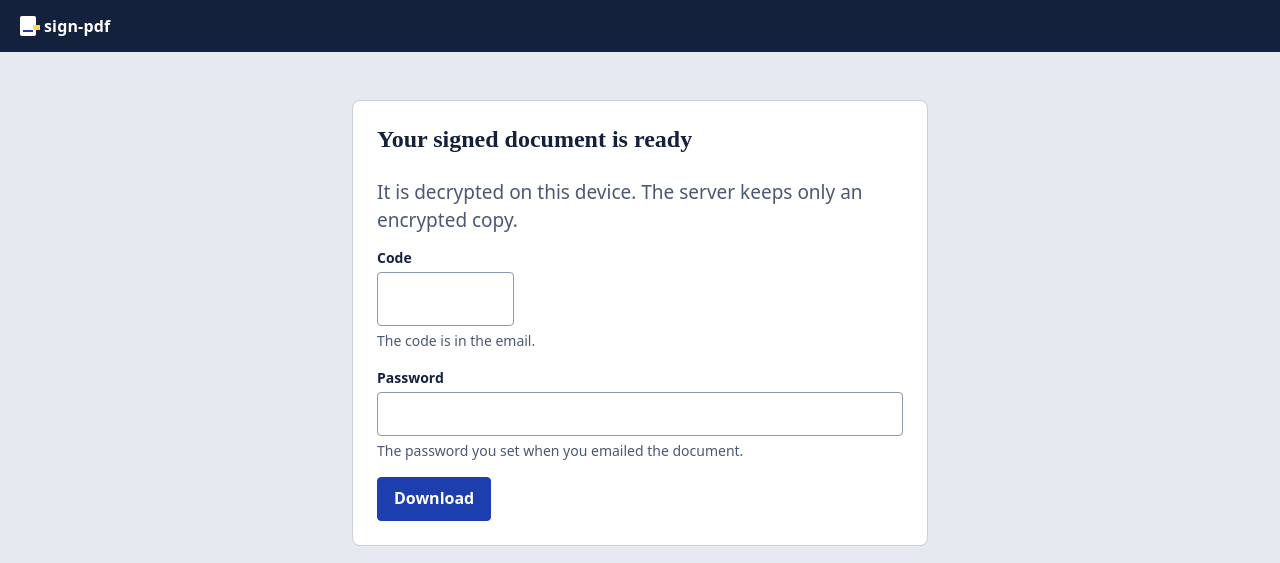
Test: collect the signed PDF › asks for the password on the same card and retries it without a new code attempt
This screenshot has width=1280, height=563.
Type "123456" into the field with test id "relay-collect-code" at (446,299), box [377,272,514,326]
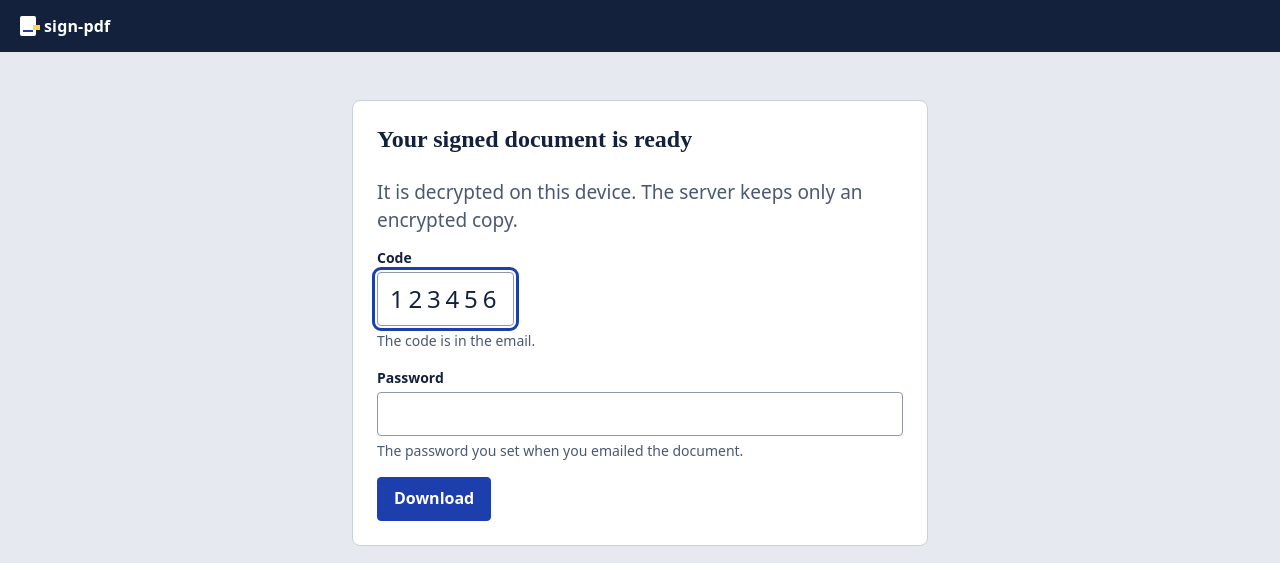
Type "wrong" into the password field with test id "relay-collect-password" at (640,414), box [377,392,903,436]
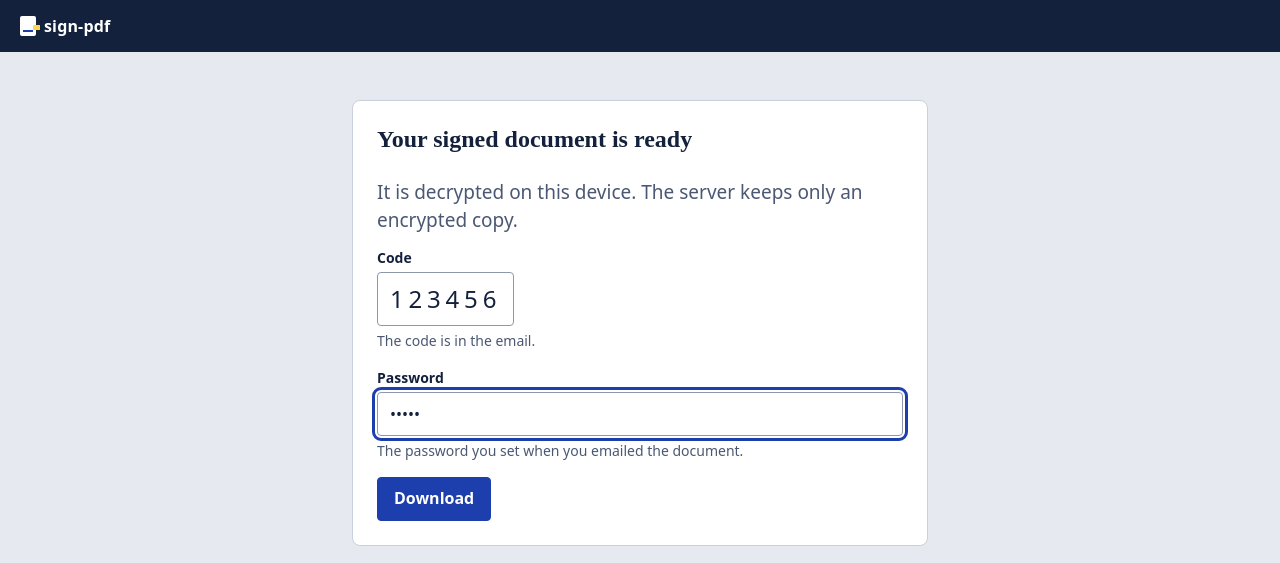
Click the button with test id "relay-collect-button" at (434,499), box [377,477,491,521]
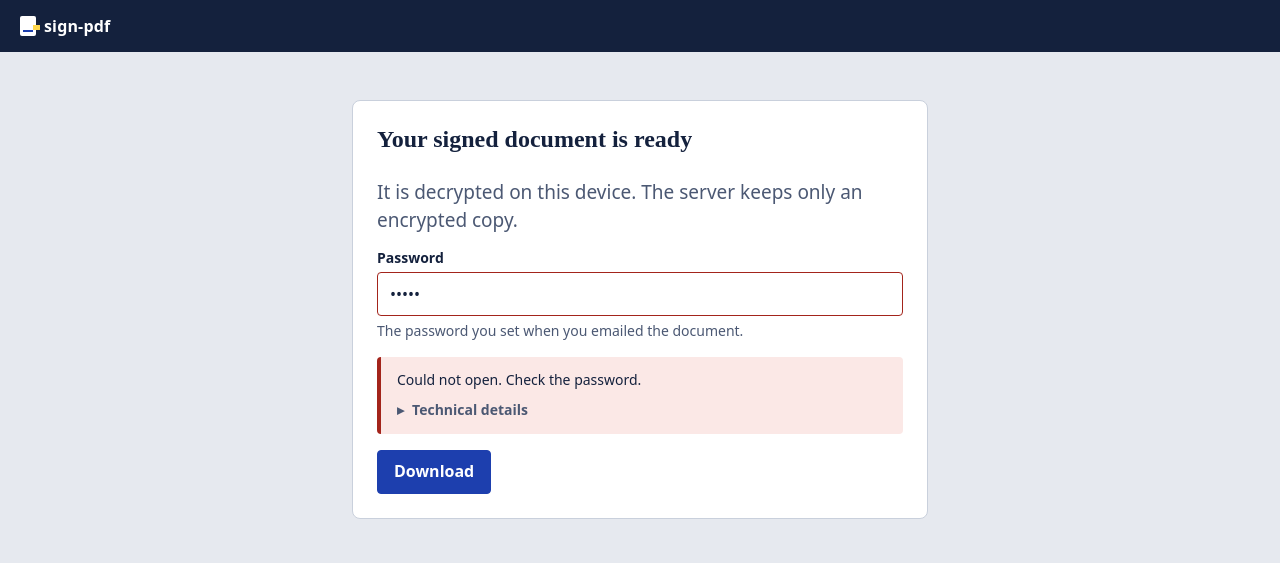
Check: the message with test id "relay-collect-error" shows "Check the password.", box [397,370,641,389]
Type "secret" into the password field with test id "relay-collect-password" at (640,294), box [377,272,903,316]
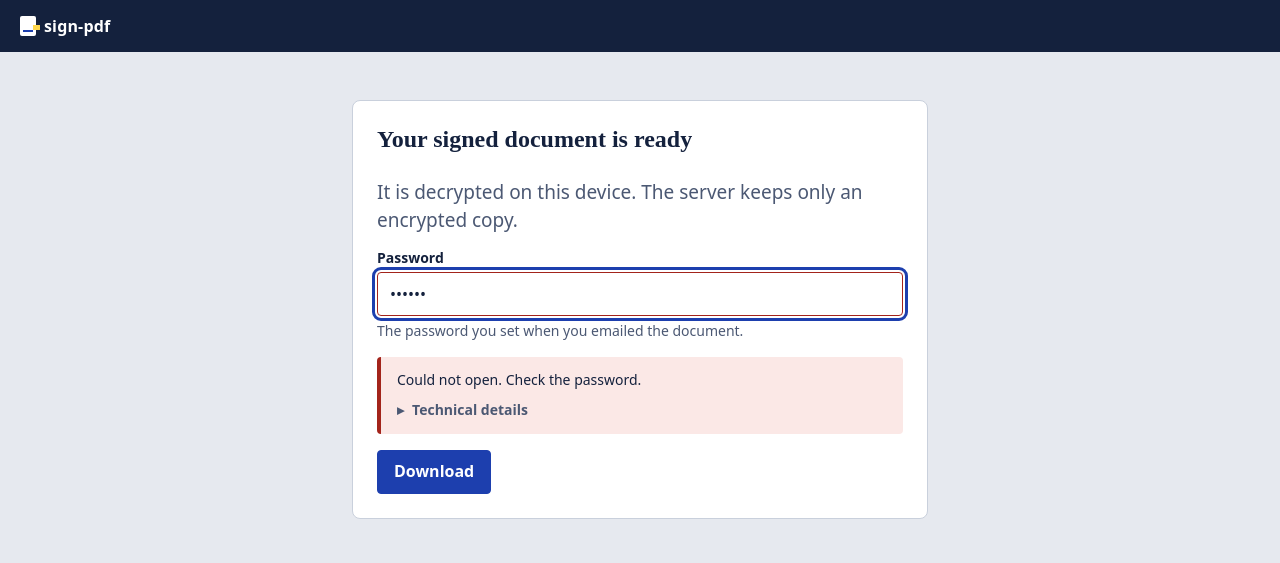
Click the button with test id "relay-collect-button" at (434,472), box [377,450,491,494]
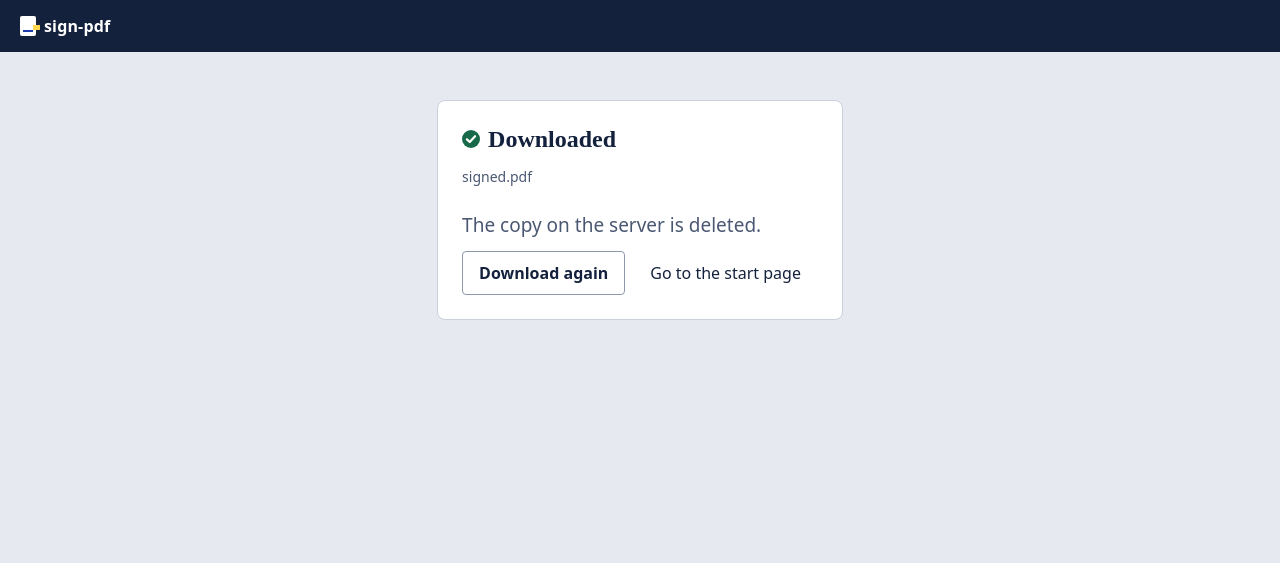
Check: the element with test id "relay-collect-done" that starts with "Downloaded" is shown, box [437,100,843,320]
